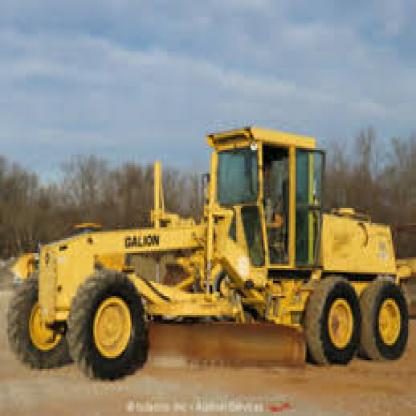bull_dozer/loader/grader: (11, 101, 408, 390)
